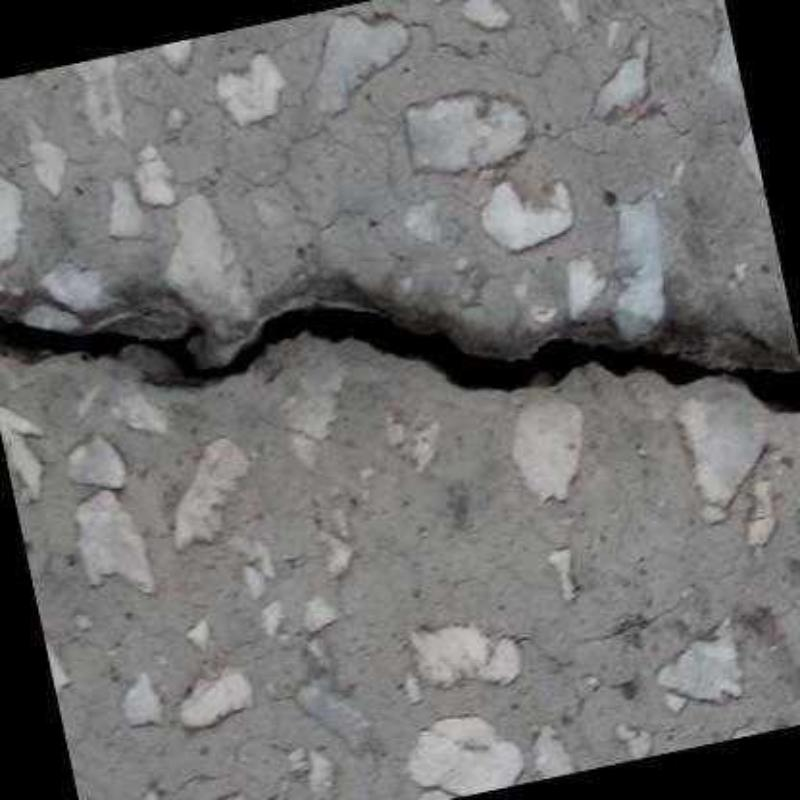pothole: (1, 307, 799, 414)
